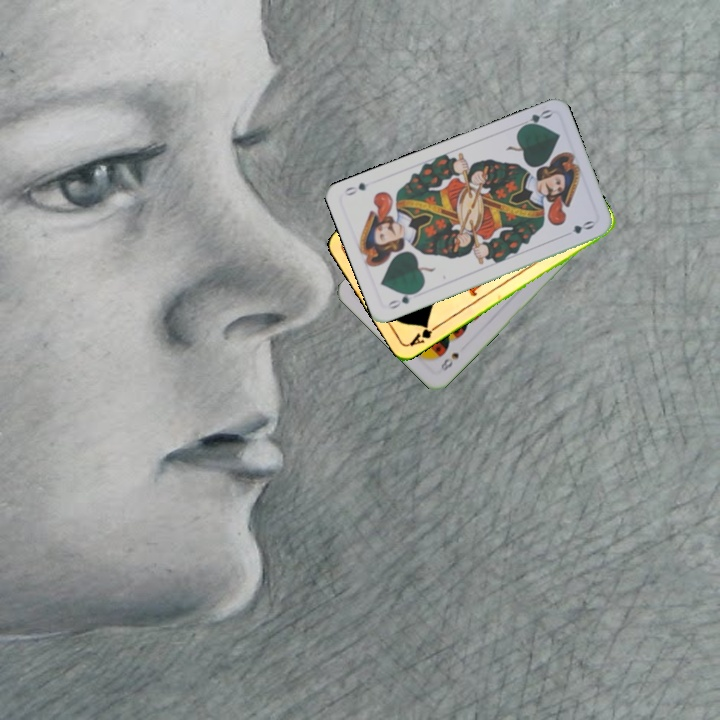GA: (405, 320, 442, 349)
GO: (515, 105, 554, 131), (383, 287, 421, 312)
S8: (436, 348, 461, 374)
